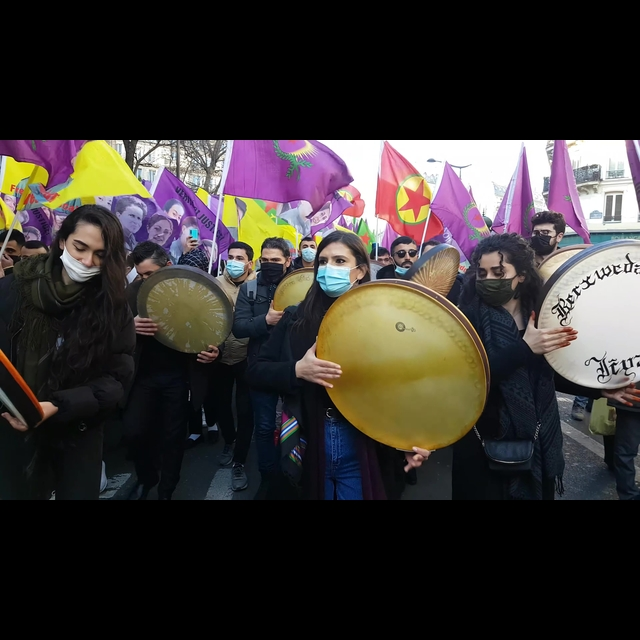PKK: (374, 142, 444, 243)
